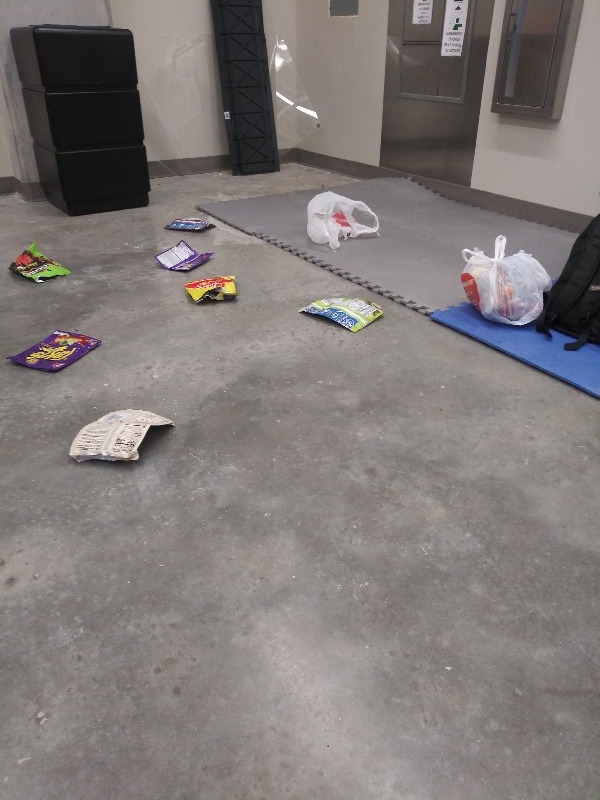bag: (67, 404, 183, 471), (6, 326, 108, 375), (294, 291, 387, 335), (4, 238, 76, 287), (150, 239, 218, 275), (180, 273, 243, 305), (163, 212, 217, 238)
